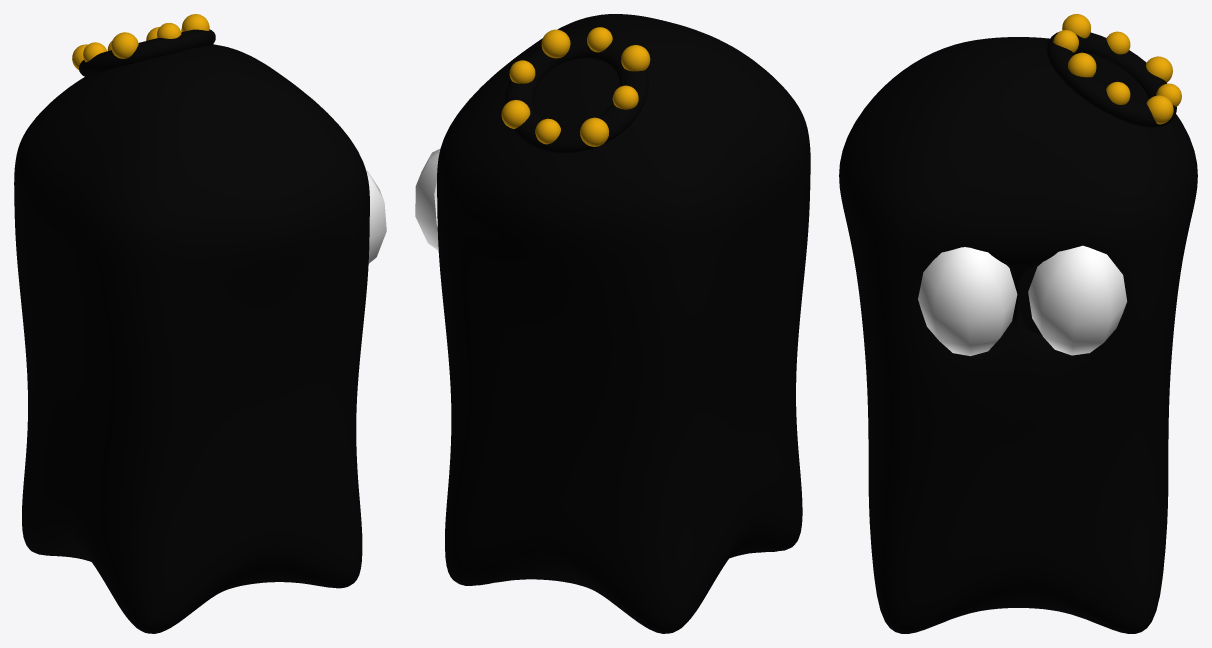
The model's file is BlackKing.fbx.
3 views of the same model, side by side, from view 1: azimuth 30°, elevation 25°; view 2: azimuth 150°, elevation 25°; view 3: azimuth 270°, elevation 25° (orthographic). The views are drawn at different scales.
Parts seen in each view (by area): view 1: King.008; view 2: King.008; view 3: King.008.
Boxes of the visible parts, box(x1,y1,x2,y2) form: King.008: box(14, 14, 386, 633); King.008: box(415, 14, 810, 633); King.008: box(839, 14, 1197, 633).
Bounding box in the file's own units: 269 × 449 × 265.
